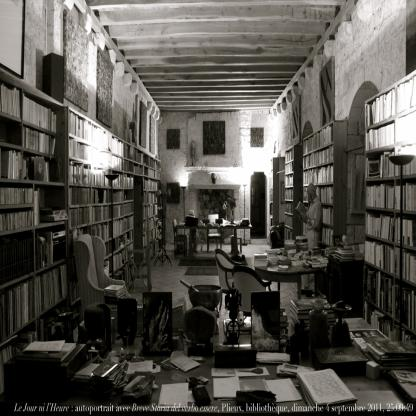book: (363, 73, 416, 338), (70, 108, 138, 274), (0, 267, 66, 342), (250, 232, 352, 272), (303, 130, 333, 247), (295, 366, 353, 416), (140, 154, 163, 253), (0, 146, 53, 180), (22, 92, 58, 132), (366, 338, 408, 371), (18, 122, 56, 151), (0, 78, 22, 121), (0, 204, 35, 230), (36, 229, 56, 267), (284, 148, 292, 240), (0, 188, 34, 207)
